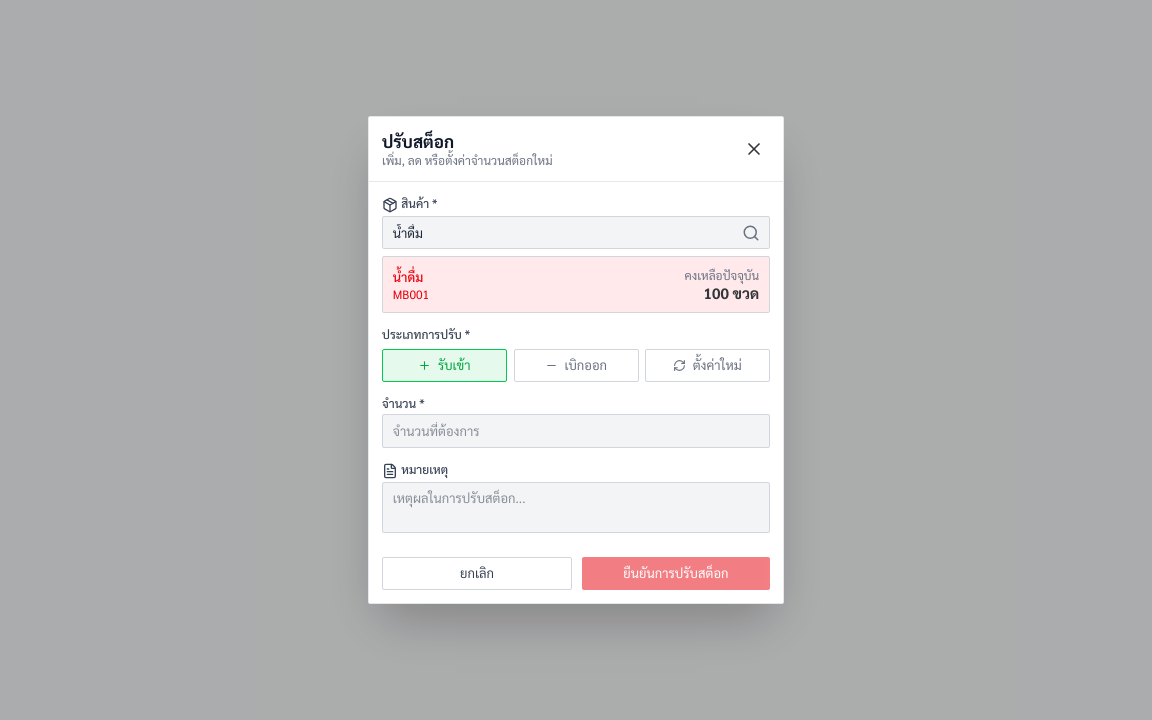
Test: StockAdjustmentModal Component › New Stock Calculation Preview › shows new stock for add adjustment
Current stock is 100, add 20
Type "20" into the number field with placeholder "จำนวนที่ต้องการ".
click(576, 431); type("20")  # box [382,414,770,448]
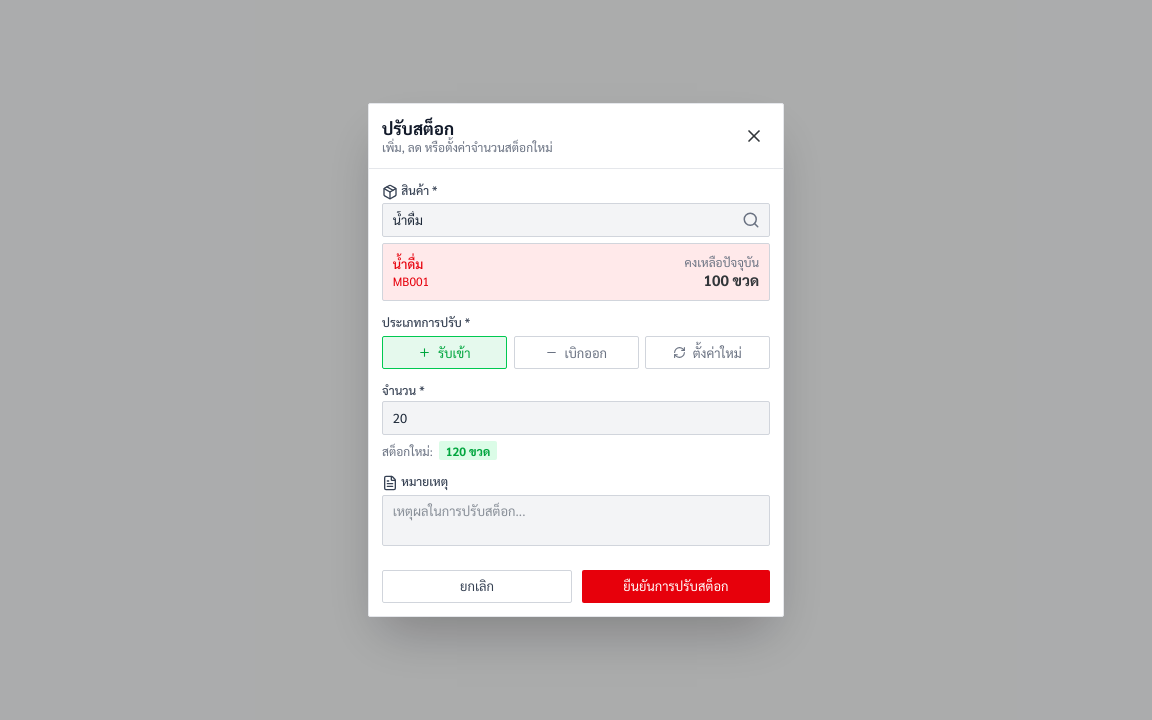
expect the text "สต็อกใหม่:" is shown: met, box [382,443,433,459]
expect the text "120 ขวด" is shown: met, box [439,441,497,460]
